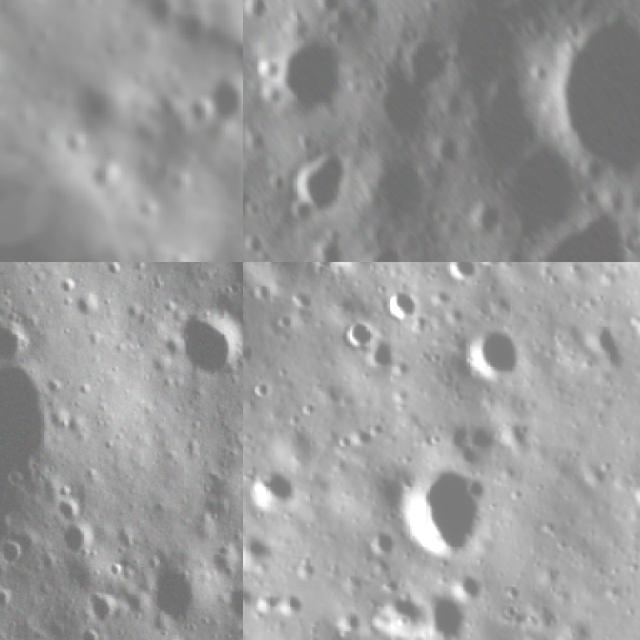crater: (530, 6, 640, 198), (366, 27, 474, 144), (391, 466, 496, 566), (277, 138, 373, 230), (262, 39, 355, 126), (0, 370, 44, 515), (181, 310, 243, 390), (458, 324, 523, 386), (145, 562, 196, 630), (438, 421, 500, 472), (243, 465, 301, 518), (374, 589, 434, 640), (456, 196, 511, 249), (580, 323, 632, 375), (0, 302, 32, 368), (208, 84, 243, 139), (243, 529, 279, 574), (363, 336, 404, 372), (382, 286, 422, 322), (334, 315, 379, 346), (60, 523, 97, 558), (87, 590, 119, 628), (119, 296, 153, 331), (207, 543, 243, 572), (71, 293, 106, 321), (440, 262, 482, 284), (274, 590, 308, 616), (323, 262, 377, 278), (243, 247, 297, 262), (226, 579, 243, 622), (51, 498, 83, 520), (626, 479, 640, 519), (0, 539, 19, 568), (251, 374, 272, 400), (243, 581, 258, 615), (630, 301, 640, 345), (473, 262, 502, 269)
